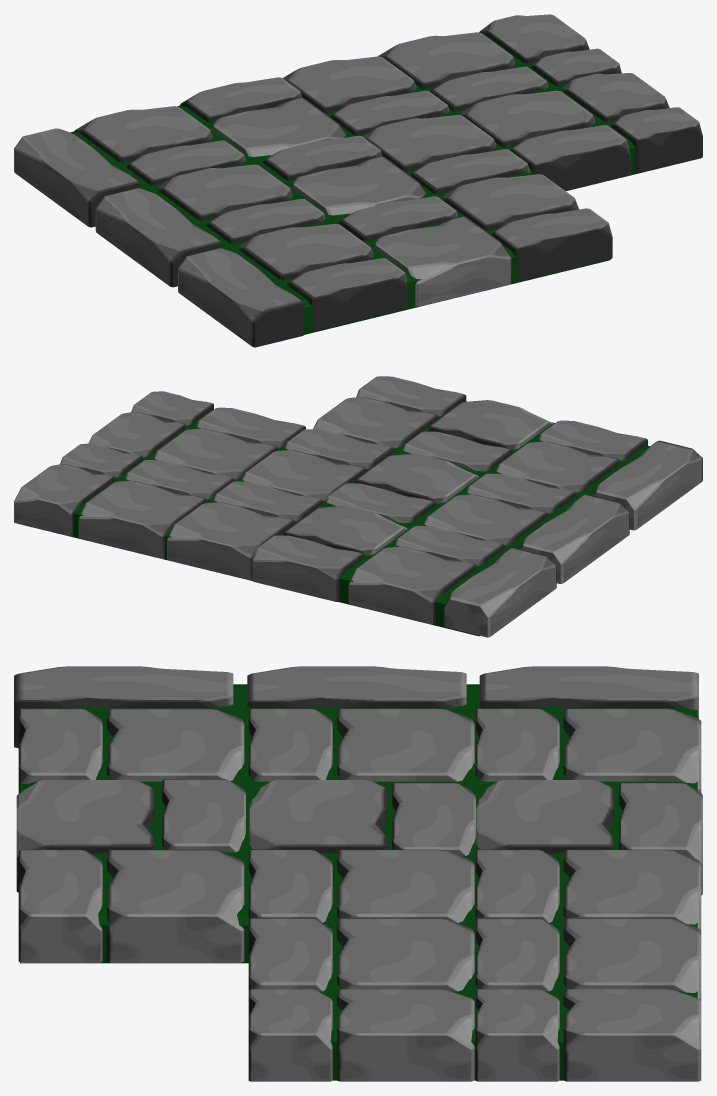
Rendered from platform.fbx.
3 views of the same model, one above another, from view 1: azimuth 30°, elevation 25°; view 2: azimuth 150°, elevation 25°; view 3: azimuth 270°, elevation 25° (orthographic). The views are drawn at different scales.
Visible parts, largest first — view 1: platform.001; view 2: platform.001; view 3: platform.001.
Boxes of the visible parts, x1,y1,x2,y2 form: platform.001: (14,14,702,347); platform.001: (14,376,702,637); platform.001: (14,666,702,1081).
Bounding box in the file's own units: 10.04 × 0.6741 × 7.92.
Materials: 1 (1 with a texture image).
